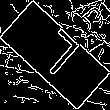L_SW: (28, 26, 82, 84)
